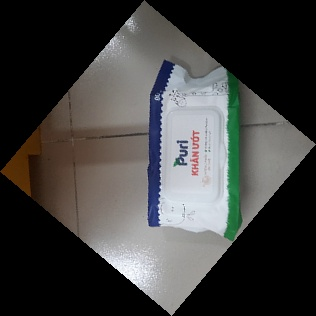Puri Trang: (147, 51, 251, 244)
